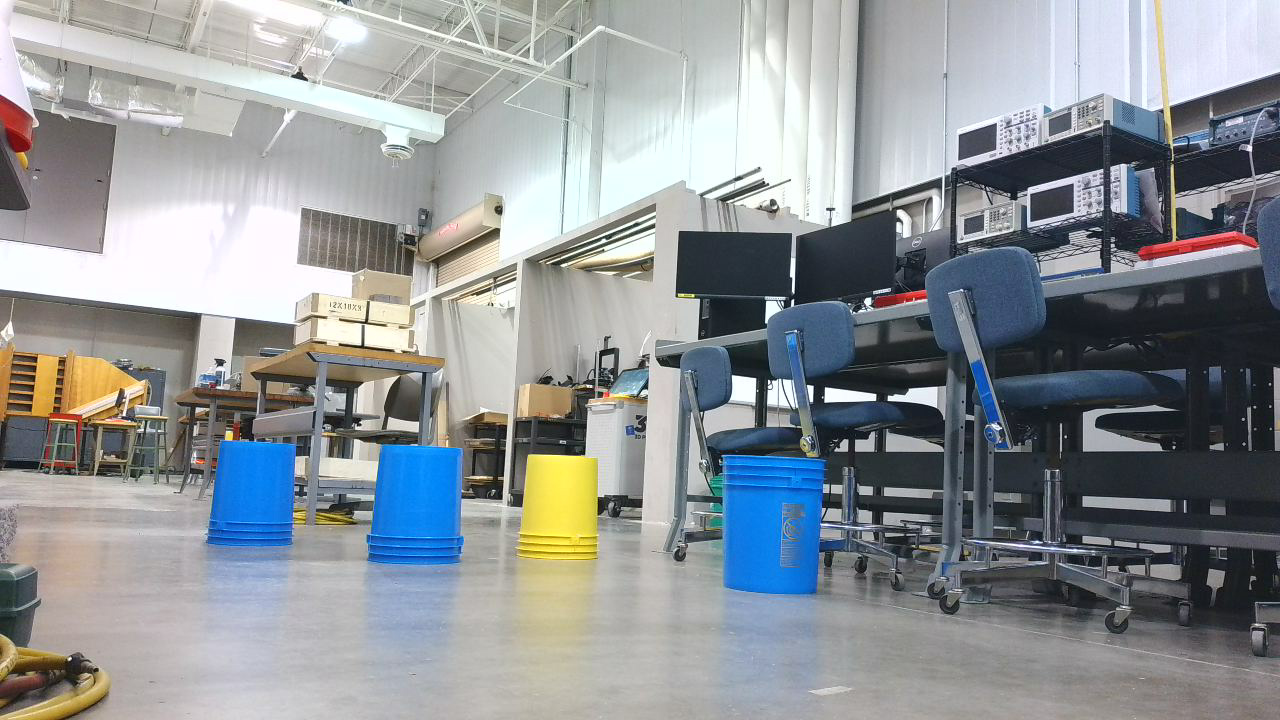blue_bucket: (722, 457, 835, 601), (367, 446, 476, 570), (212, 441, 305, 560)
yellow_bucket: (517, 457, 608, 568)
